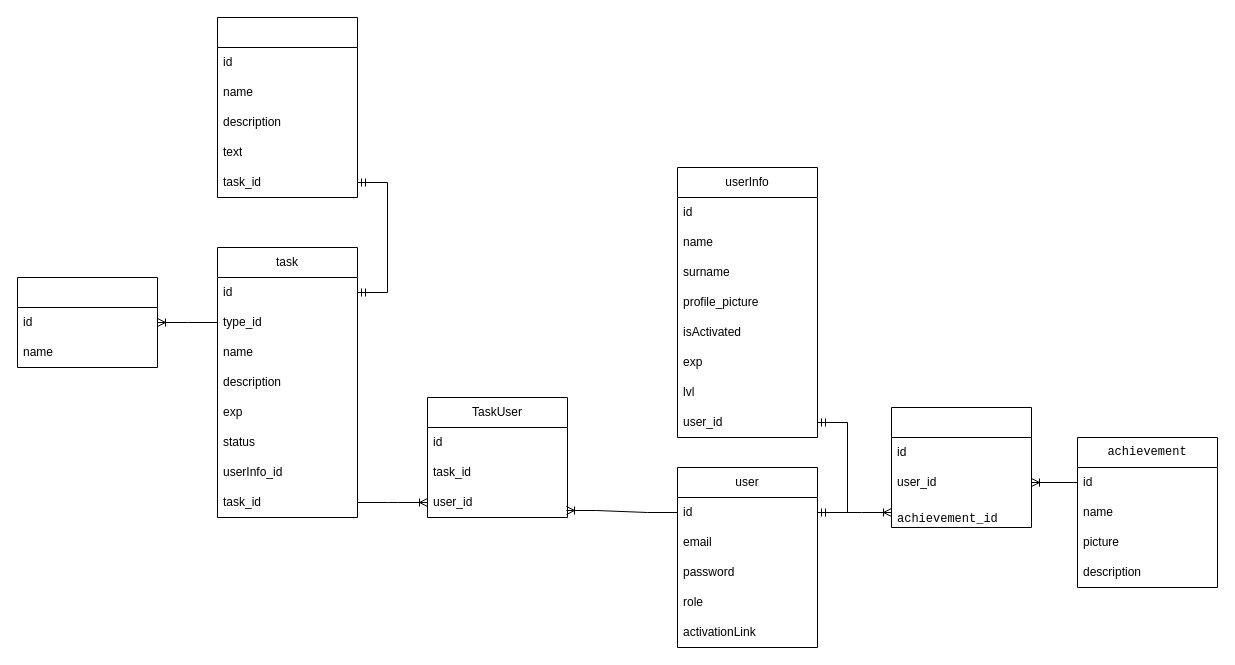
Some shapes in this 1235 by 665 pixel diagram are drawn without their labels. The box of each missing label's shape, as (x1, y1, x2, y2) in pixels:
theory: (216, 16, 358, 198)
type: (16, 276, 158, 368)
UserA chievement: (890, 406, 1032, 528)
